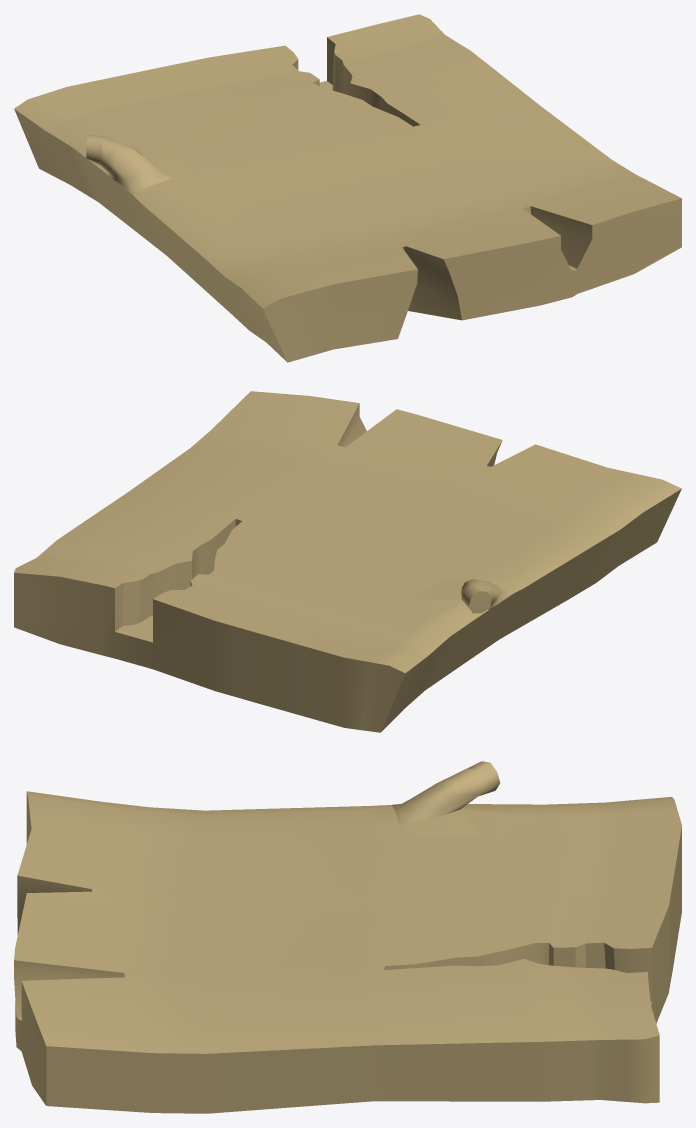
File: cuttingboard.fbx
3 renders of one model, top to bottom at view 1: azimuth 30°, elevation 25°; view 2: azimuth 150°, elevation 25°; view 3: azimuth 270°, elevation 25°, orthographic. The views are drawn at different scales.
Visible parts, largest first — view 1: Cuttingboard; view 2: Cuttingboard; view 3: Cuttingboard.
Boxes of the visible parts, x1,y1,x2,y2 form: Cuttingboard: (14,14,681,362); Cuttingboard: (14,391,681,732); Cuttingboard: (14,761,681,1113).
Bounding box in the file's own units: 4.42 × 0.9877 × 4.89.
